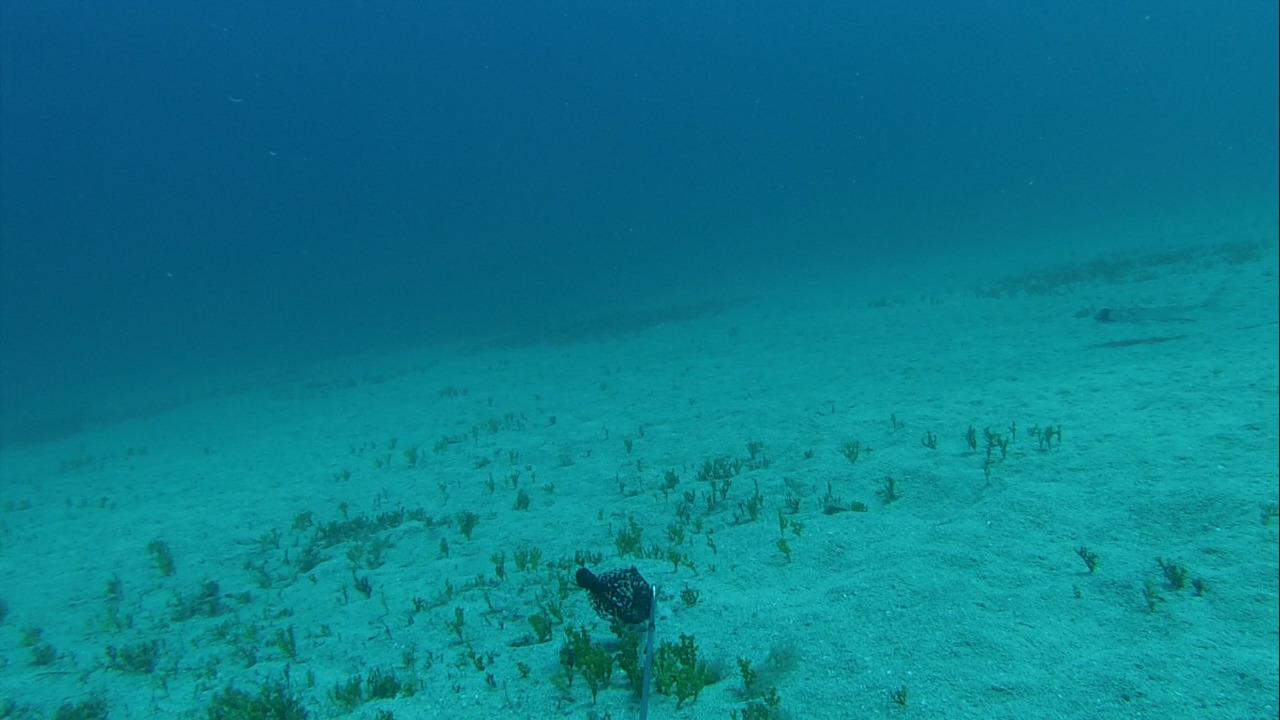dactylopterus: (1081, 280, 1228, 334)
